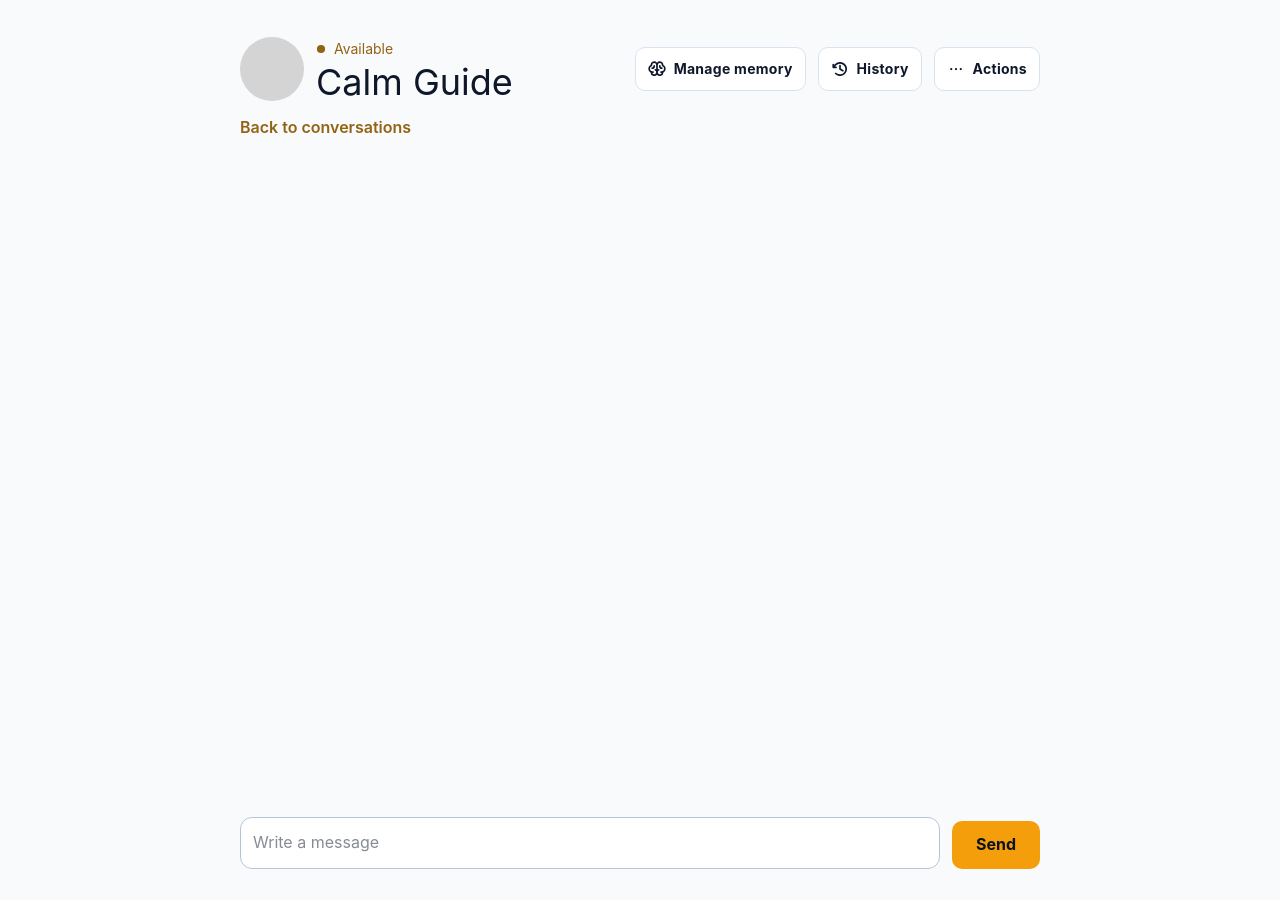
memory entry targets the current character and deletion explains retained memory and cancelled sources
The image size is (1280, 900).
Click the button with aria-label "Open conversation actions" at (987, 70), box [934, 48, 1040, 92]
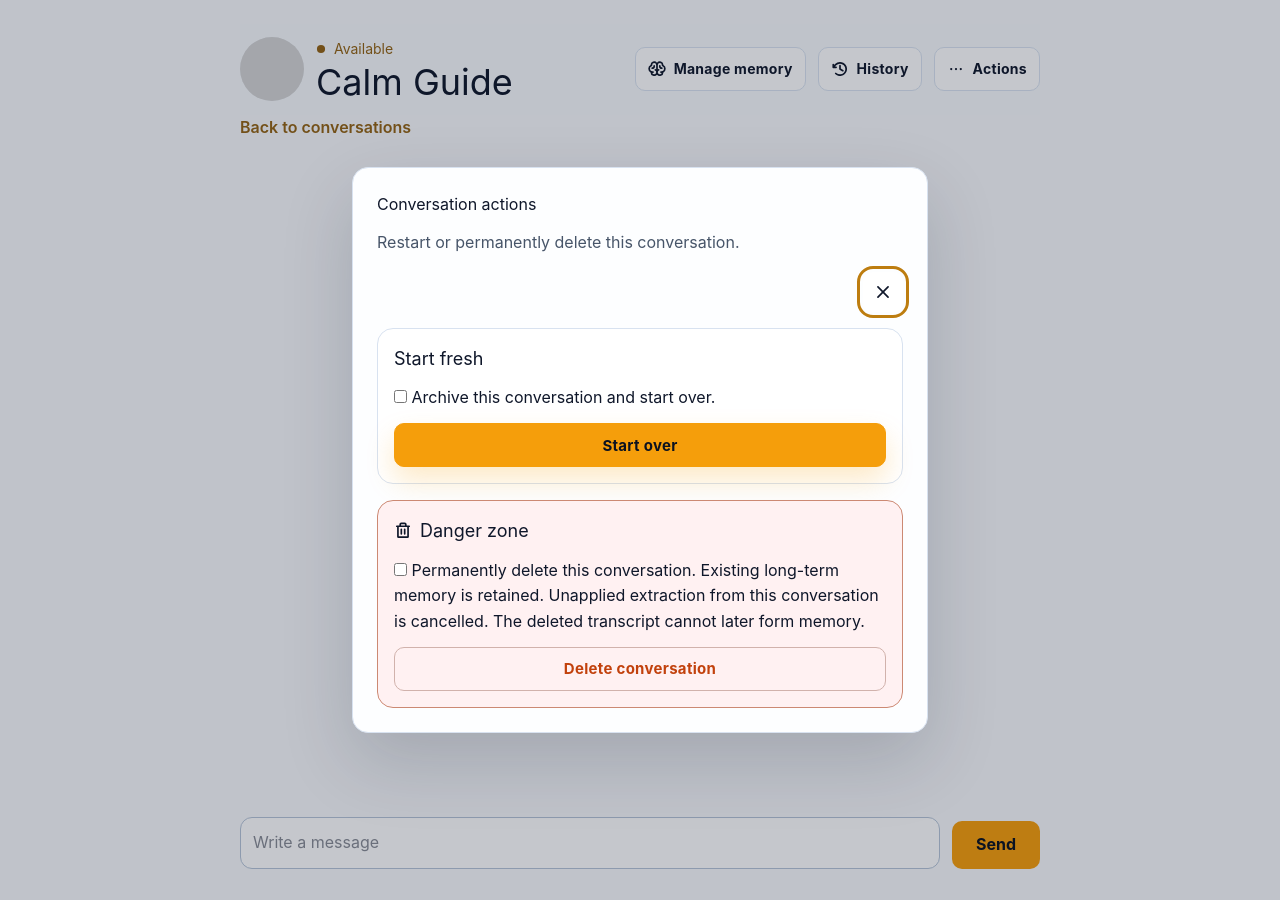
Expected: the label labelled "Permanently delete this conversation" shows "Existing long-term memory is retained. Unapplied extraction from this conversation is cancelled. The deleted transcript cannot later form memory.", [394, 560, 879, 631]
